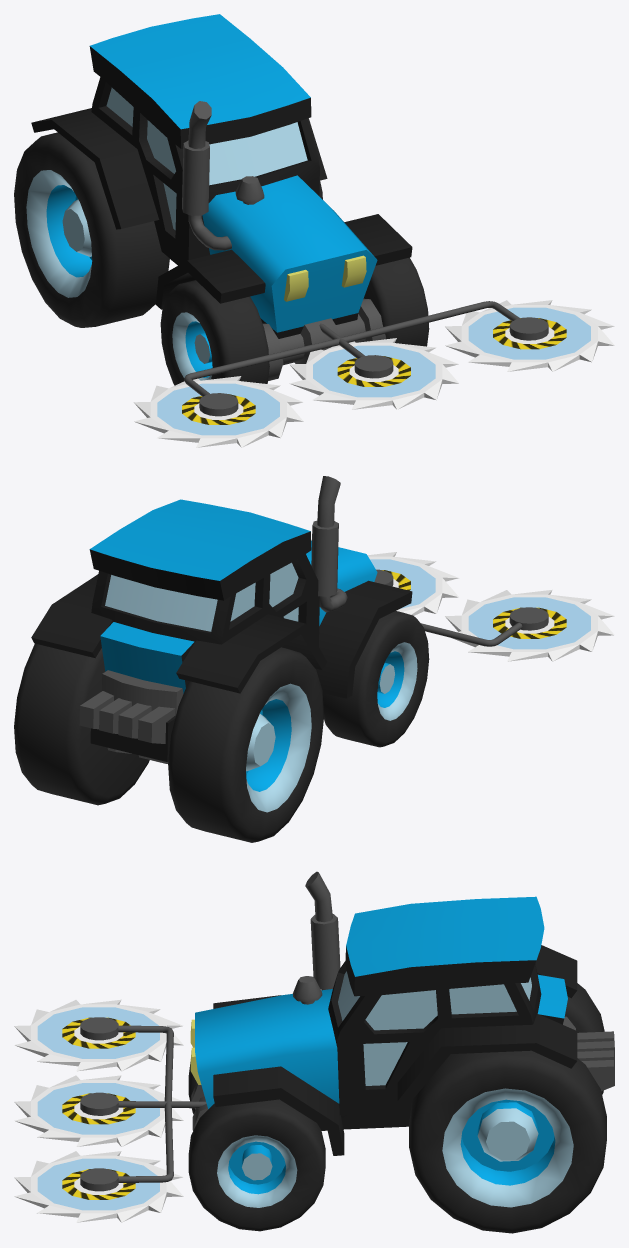
Rendered from tractor.fbx.
3 renders of one model, top to bottom at view 1: azimuth 30°, elevation 25°; view 2: azimuth 150°, elevation 25°; view 3: azimuth 270°, elevation 25°, orthographic.
Parts seen in each view (by area): view 1: body, frame, wheels_front, saw.001, saw.002, saw; view 2: body, frame, wheels_front, saw.001, saw; view 3: body, frame, wheels_front, saw.002, saw.001, saw.
Part boxes in pixels (<box>): body: <box>31,14,412,338</box>; frame: <box>14,132,548,416</box>; wheels_front: <box>160,257,429,385</box>; saw.001: <box>134,376,303,447</box>; saw.002: <box>445,300,614,371</box>; saw: <box>289,338,458,409</box>; body: <box>31,476,412,761</box>; frame: <box>14,569,548,842</box>; wheels_front: <box>322,611,429,747</box>; saw.001: <box>445,589,614,661</box>; saw: <box>367,552,458,615</box>; body: <box>190,871,577,1155</box>; frame: <box>80,983,614,1233</box>; wheels_front: <box>188,1062,325,1231</box>; saw.002: <box>14,1151,183,1222</box>; saw.001: <box>14,999,183,1071</box>; saw: <box>14,1075,183,1146</box>.
Size of the model in its own units: 2.48 by 1.46 by 2.83.
Materials: 10 (3 with a texture image).
